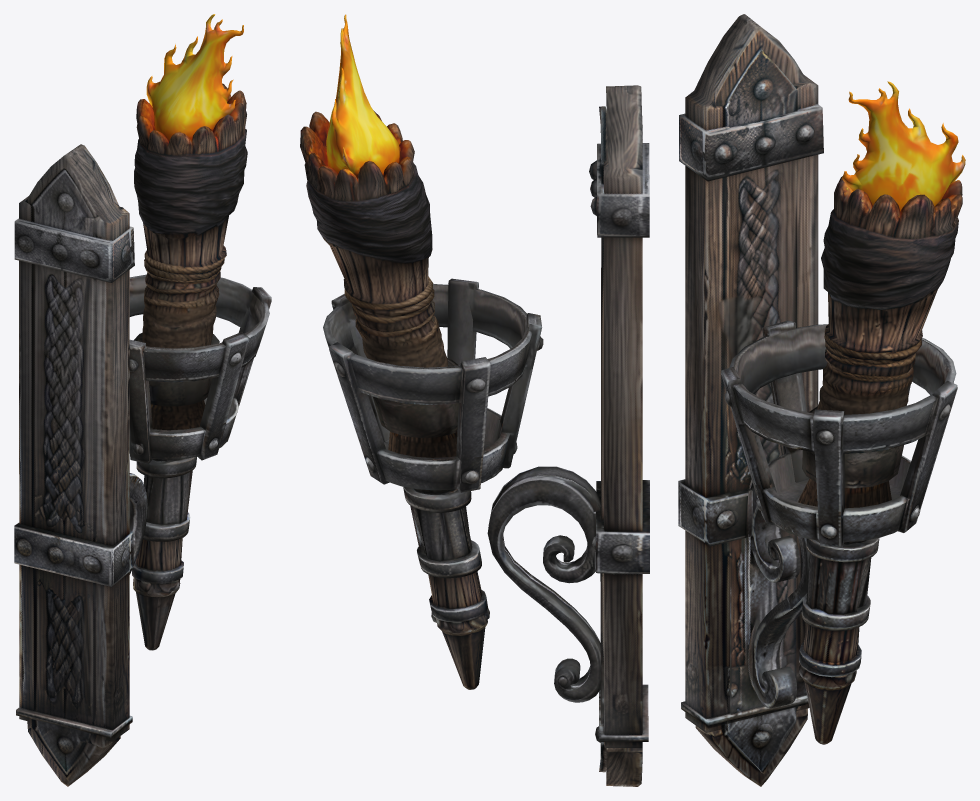
The model's file is SM_Env_HeorotWallTorch.fbx.
The picture shows the model from 3 angles, left to right: view 1: azimuth 30°, elevation 25°; view 2: azimuth 150°, elevation 25°; view 3: azimuth 270°, elevation 25°; orthographic projection. The views are drawn at different scales.
Visible parts, largest first — view 1: SM_Env_HeorotWallTorch; view 2: SM_Env_HeorotWallTorch; view 3: SM_Env_HeorotWallTorch.
Boxes of the visible parts, bbox=[...] form: SM_Env_HeorotWallTorch: bbox=[14, 14, 271, 786]; SM_Env_HeorotWallTorch: bbox=[300, 14, 649, 786]; SM_Env_HeorotWallTorch: bbox=[678, 14, 965, 786].
Bounding box in the file's own units: 9.93 × 7.66 × 24.
Materials: 1 (1 with a texture image).
